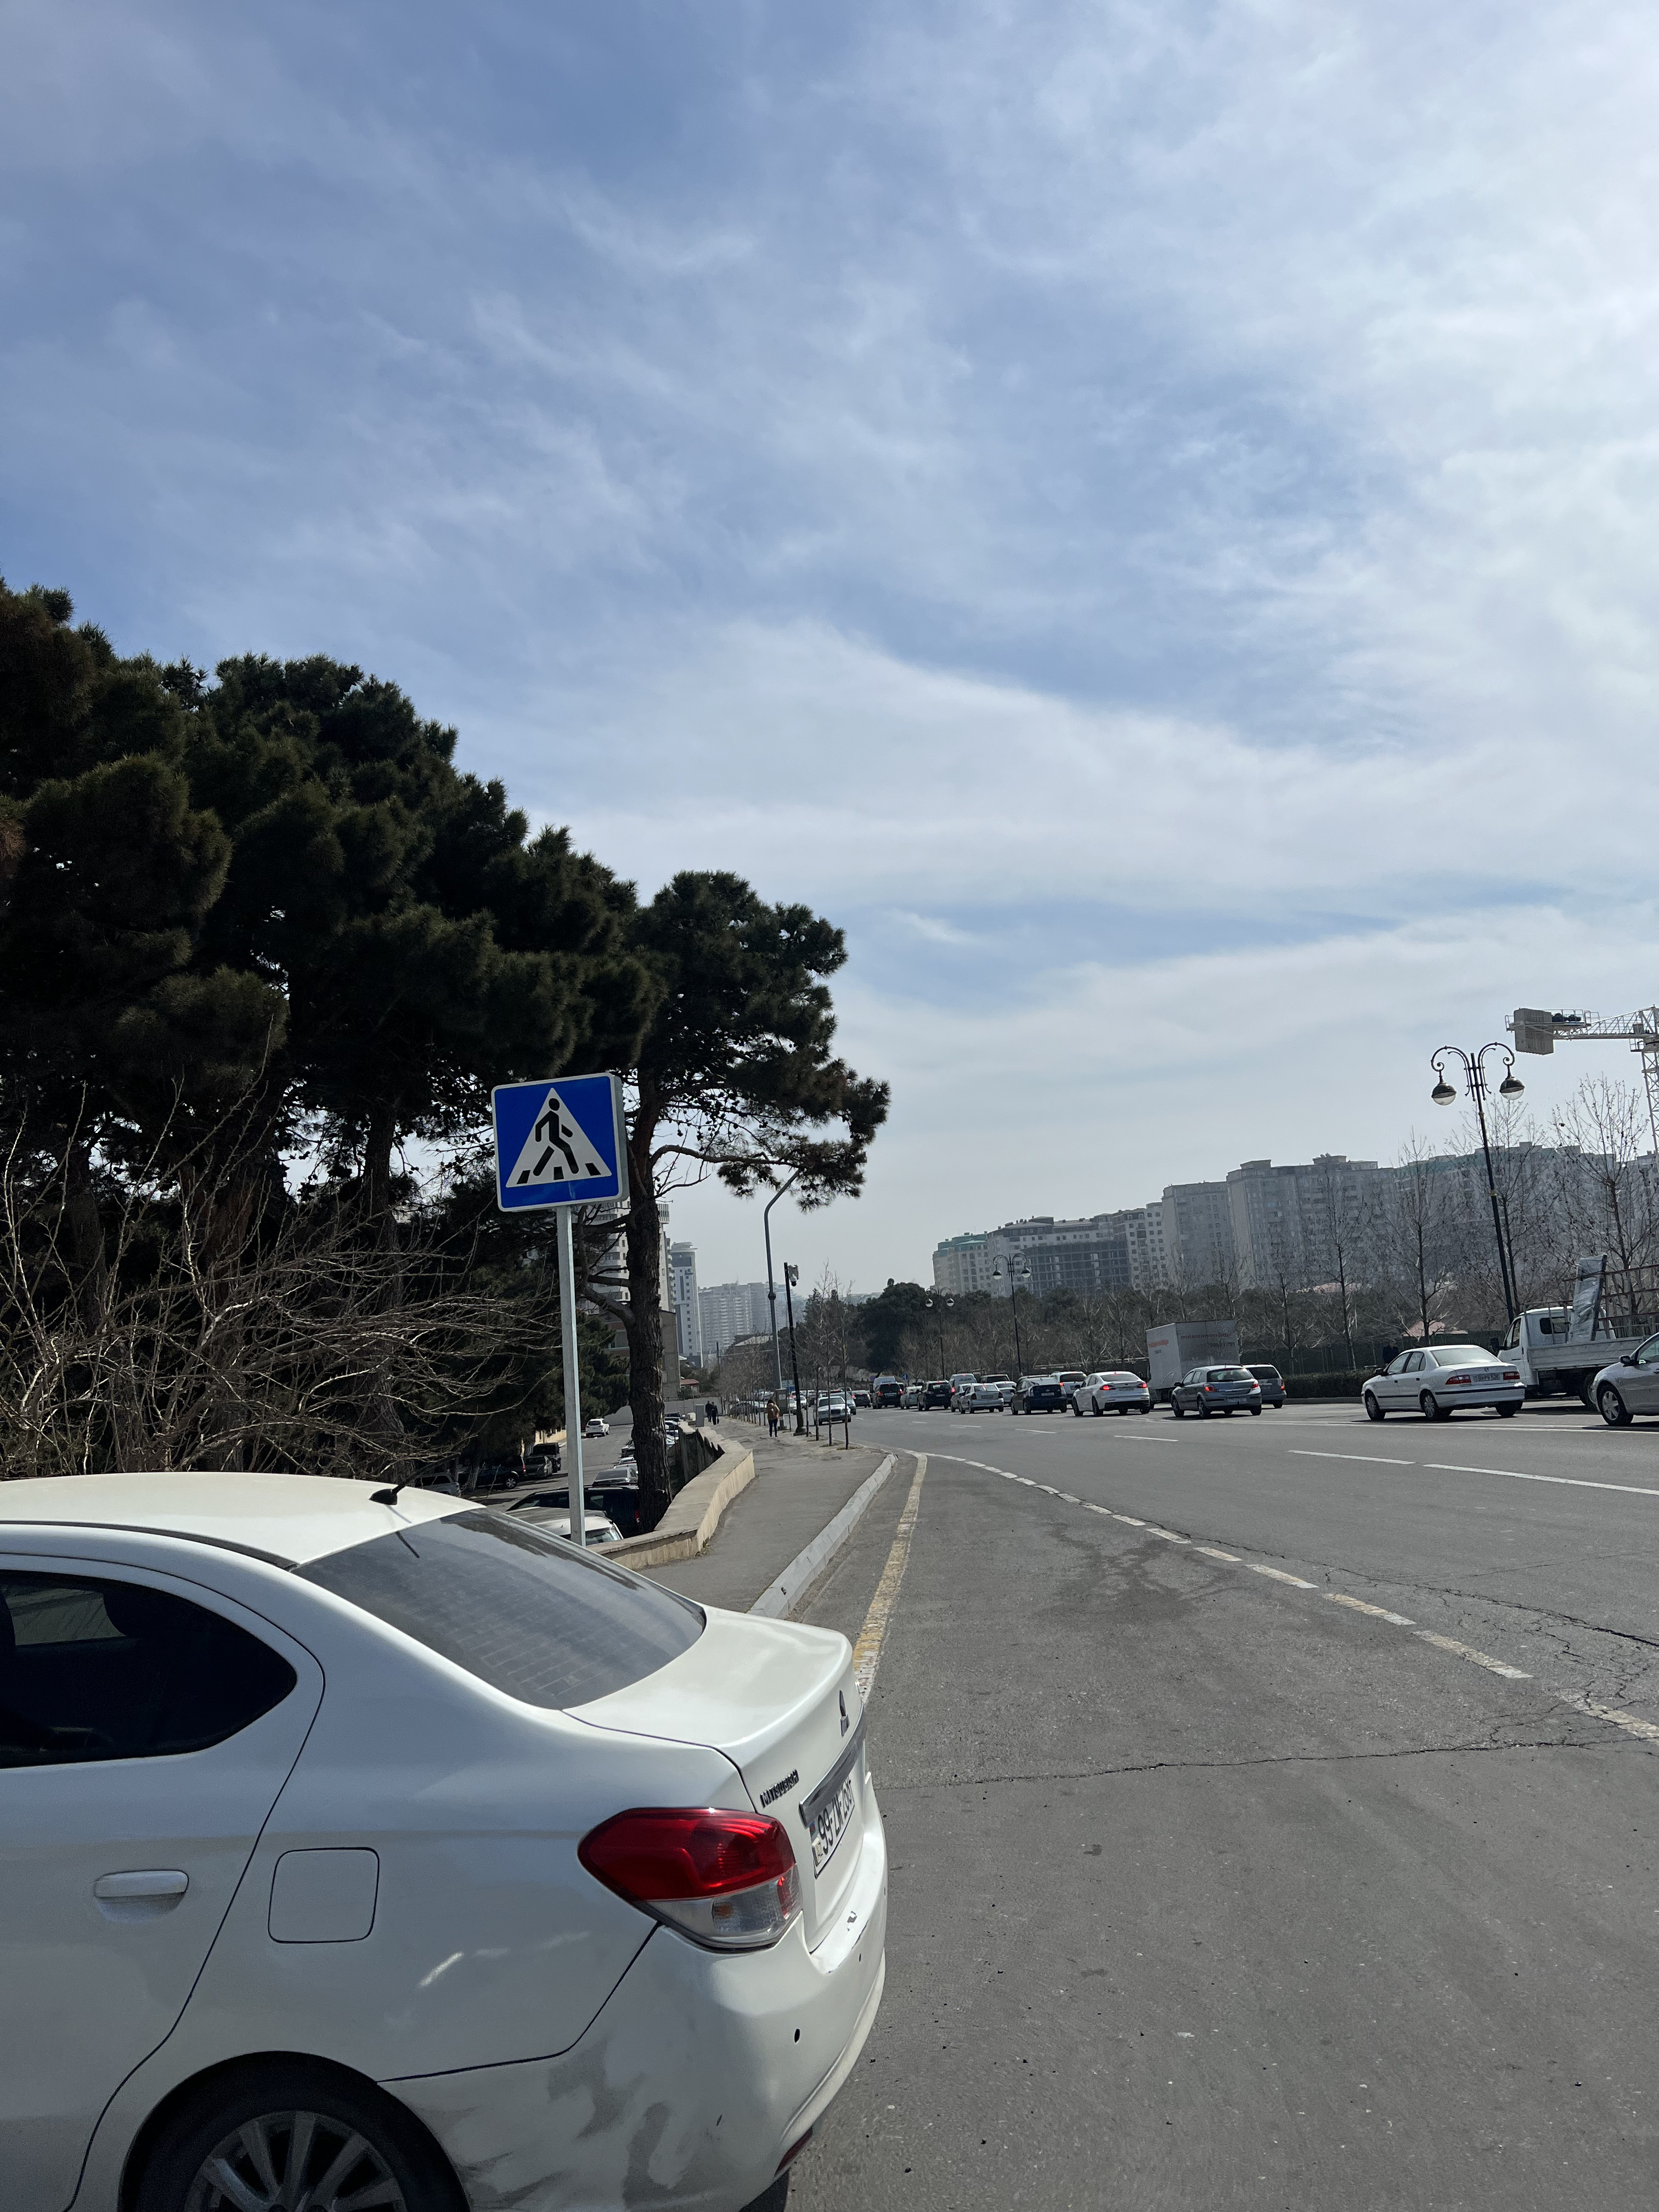Pedestrian Crossing: (491, 1073, 624, 1207)
